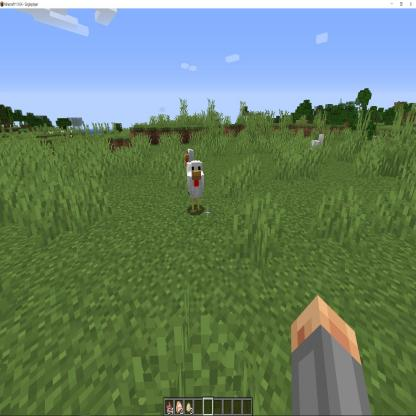minecraft-pigs: (190, 162, 204, 212), (183, 146, 199, 180), (310, 132, 326, 164)
